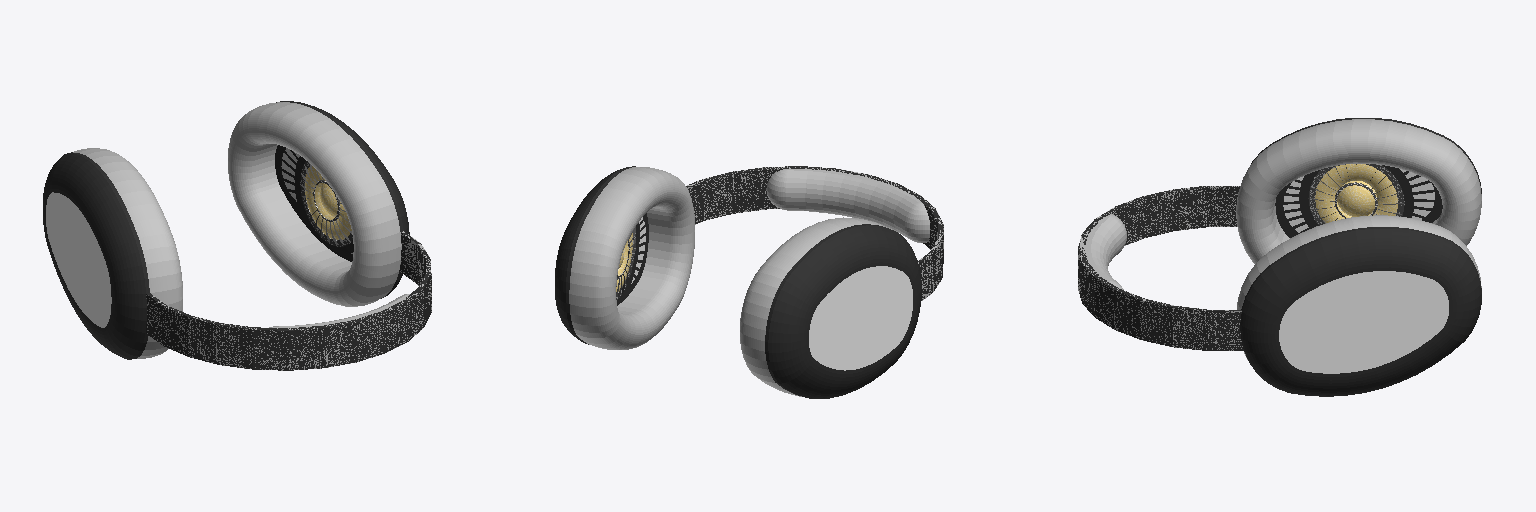
File: model_scale.obj
3 views of the same model, side by side, from view 1: azimuth 30°, elevation 25°; view 2: azimuth 150°, elevation 25°; view 3: azimuth 270°, elevation 25° (orthographic).
Visible parts, largest first — view 1: mesh11_mesh11-geometry, mesh45_mesh45-geometry, mesh73_mesh73-geometry, mesh47_mesh47-geometry, mesh14_mesh14-geometry, mesh8_mesh8-geometry, mesh9_mesh9-geometry, mesh50_mesh50-geometry; view 2: mesh45_mesh45-geometry, mesh11_mesh11-geometry, mesh73_mesh73-geometry, mesh47_mesh47-geometry, mesh14_mesh14-geometry, mesh9_mesh9-geometry, mesh50_mesh50-geometry; view 3: mesh9_mesh9-geometry, mesh47_mesh47-geometry, mesh73_mesh73-geometry, mesh50_mesh50-geometry, mesh44_mesh44-geometry, mesh11_mesh11-geometry, mesh39_mesh39-geometry.
Boxes of the visible parts, box(x1,y1,x2,y2) form: mesh11_mesh11-geometry: box(228, 102, 401, 306); mesh45_mesh45-geometry: box(43, 153, 146, 359); mesh73_mesh73-geometry: box(146, 231, 431, 370); mesh47_mesh47-geometry: box(73, 148, 182, 358); mesh14_mesh14-geometry: box(275, 101, 403, 298); mesh8_mesh8-geometry: box(305, 166, 351, 239); mesh9_mesh9-geometry: box(304, 103, 409, 287); mesh50_mesh50-geometry: box(71, 152, 149, 358); mesh45_mesh45-geometry: box(768, 225, 921, 398); mesh11_mesh11-geometry: box(569, 167, 694, 349); mesh73_mesh73-geometry: box(686, 166, 943, 300); mesh47_mesh47-geometry: box(740, 217, 891, 396); mesh14_mesh14-geometry: box(566, 166, 648, 344); mesh9_mesh9-geometry: box(555, 169, 620, 336); mesh50_mesh50-geometry: box(765, 224, 882, 394); mesh9_mesh9-geometry: box(1240, 229, 1481, 396); mesh47_mesh47-geometry: box(1236, 119, 1481, 263); mesh73_mesh73-geometry: box(1078, 186, 1243, 350); mesh50_mesh50-geometry: box(1251, 118, 1481, 237); mesh44_mesh44-geometry: box(1315, 164, 1397, 223); mesh11_mesh11-geometry: box(1237, 215, 1481, 359); mesh39_mesh39-geometry: box(1308, 164, 1404, 225).
Bounding box in the file's own units: 0.1233 × 0.0683 × 0.1486.